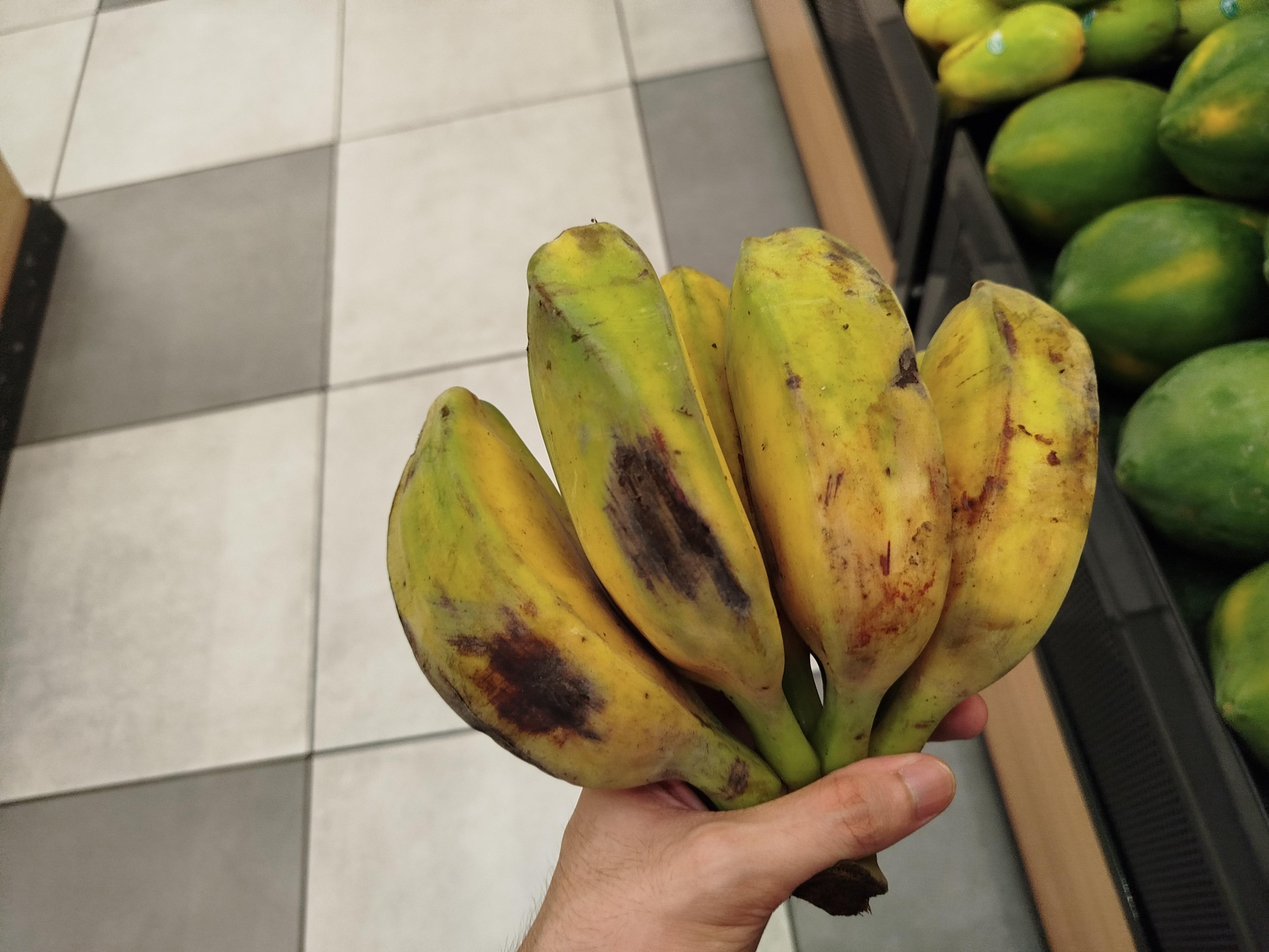underripe: (387, 223, 1099, 787)
